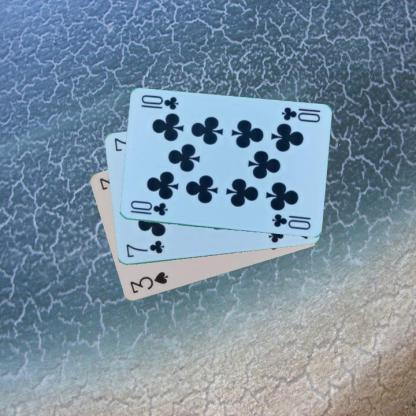10c: (278, 105, 321, 124), (127, 198, 169, 217)
3s: (127, 269, 169, 295)
7c: (124, 238, 165, 259)
